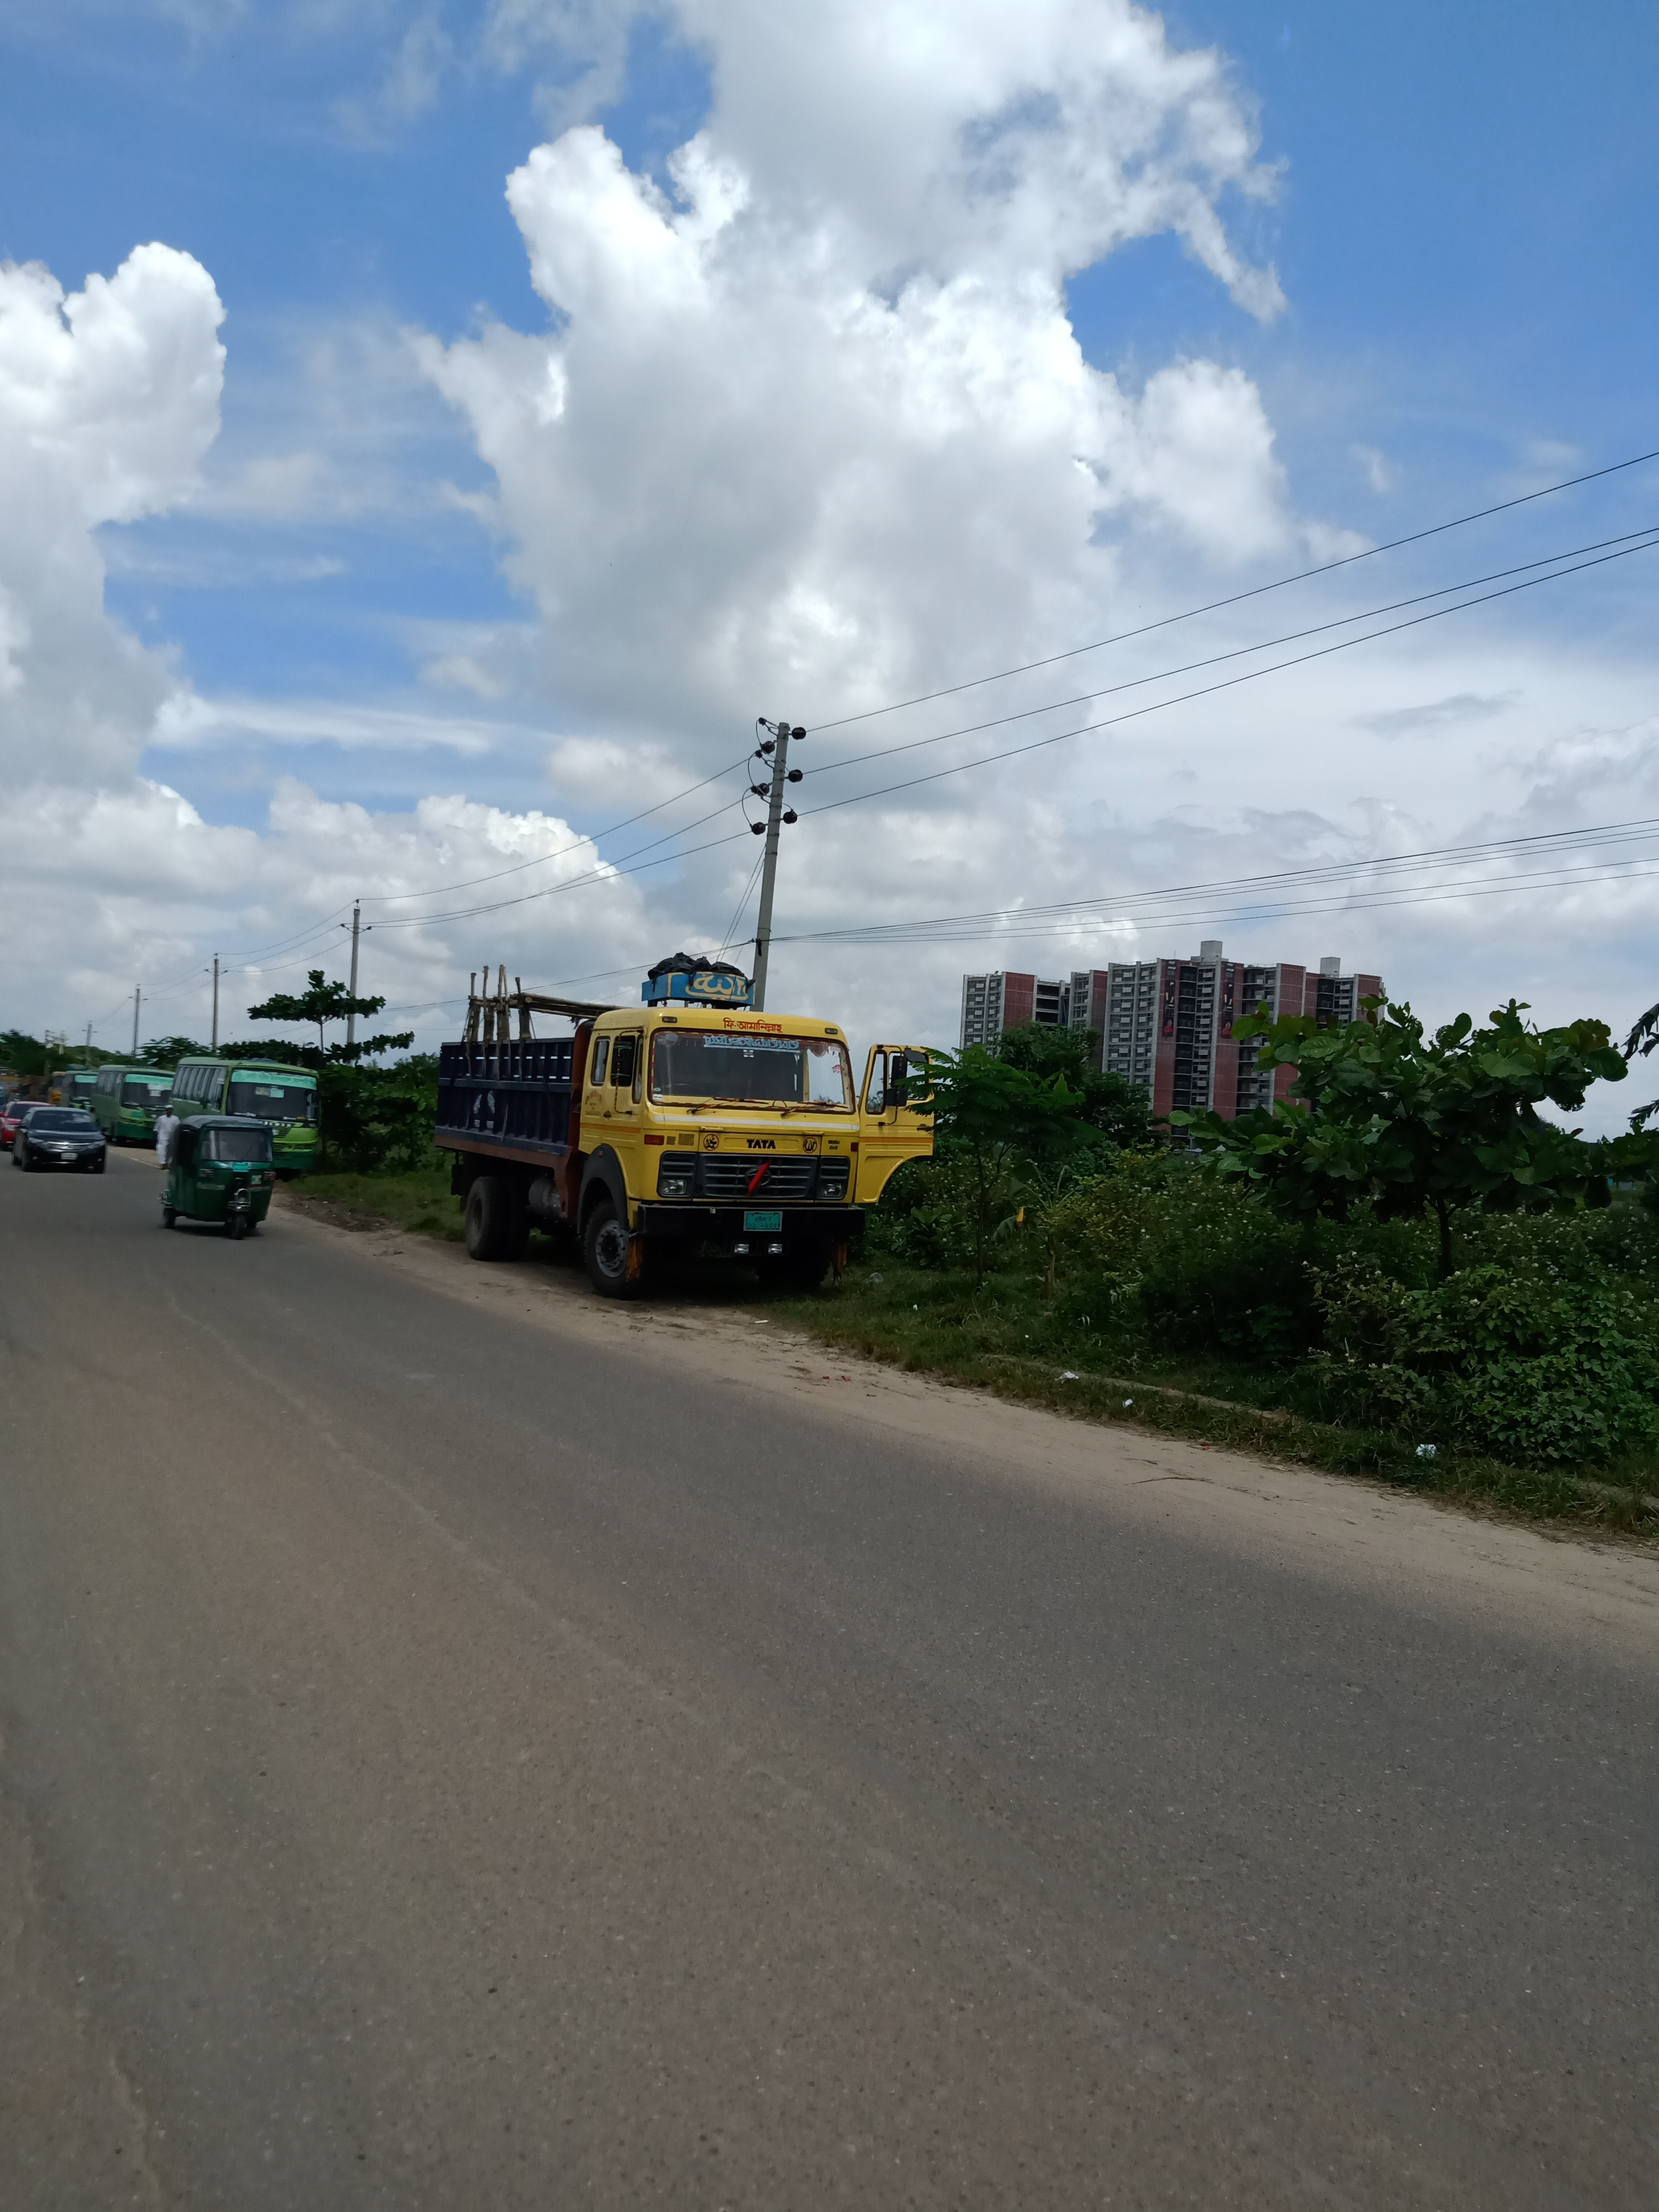bus: (179, 1055, 324, 1174), (99, 1061, 178, 1148), (51, 1068, 99, 1104)
car: (17, 1108, 110, 1176), (5, 1096, 52, 1143)
cng: (162, 1115, 277, 1240)
truck: (429, 963, 936, 1296)
